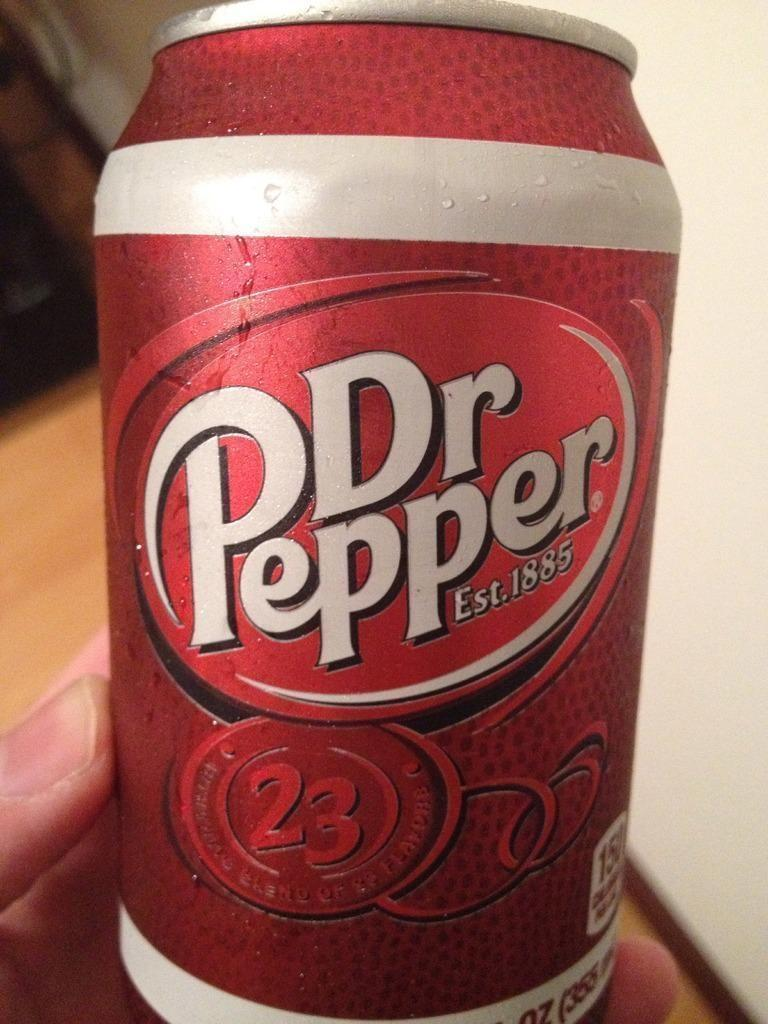tin can: (91, 2, 684, 1023)
